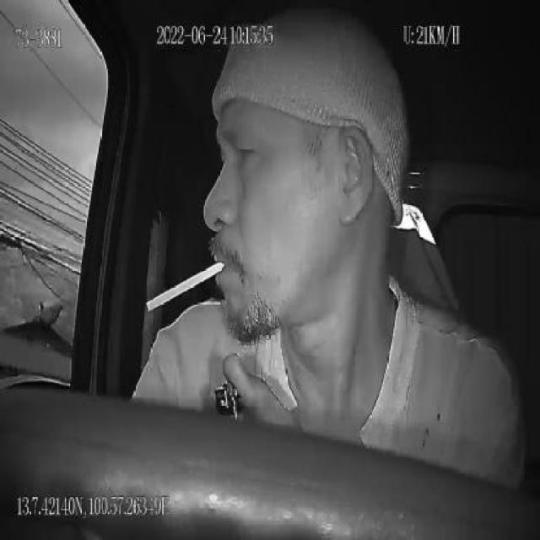smoking: (143, 254, 228, 317)
